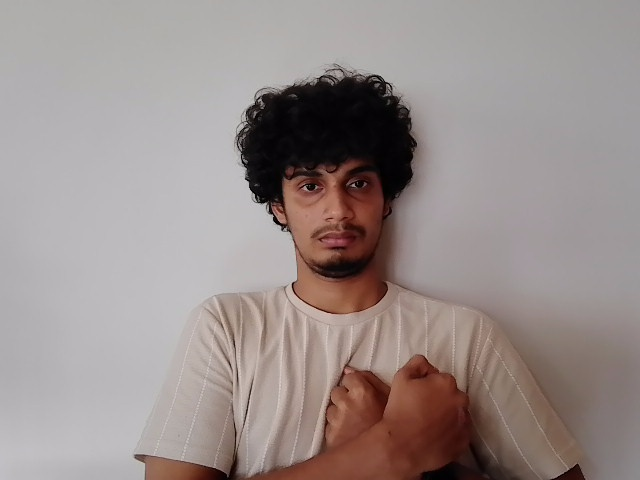love: (325, 357, 476, 480)
